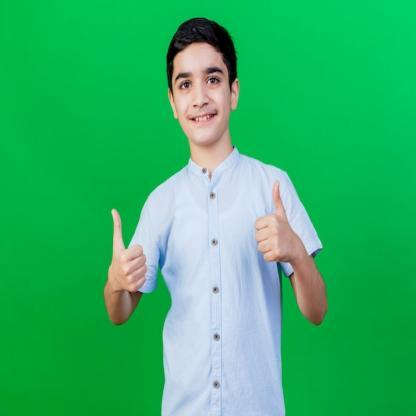thumb_up: (252, 181, 296, 266), (108, 206, 150, 294)
